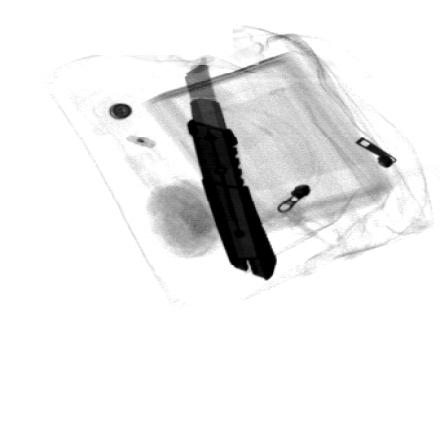Knife: (183, 55, 278, 282)
